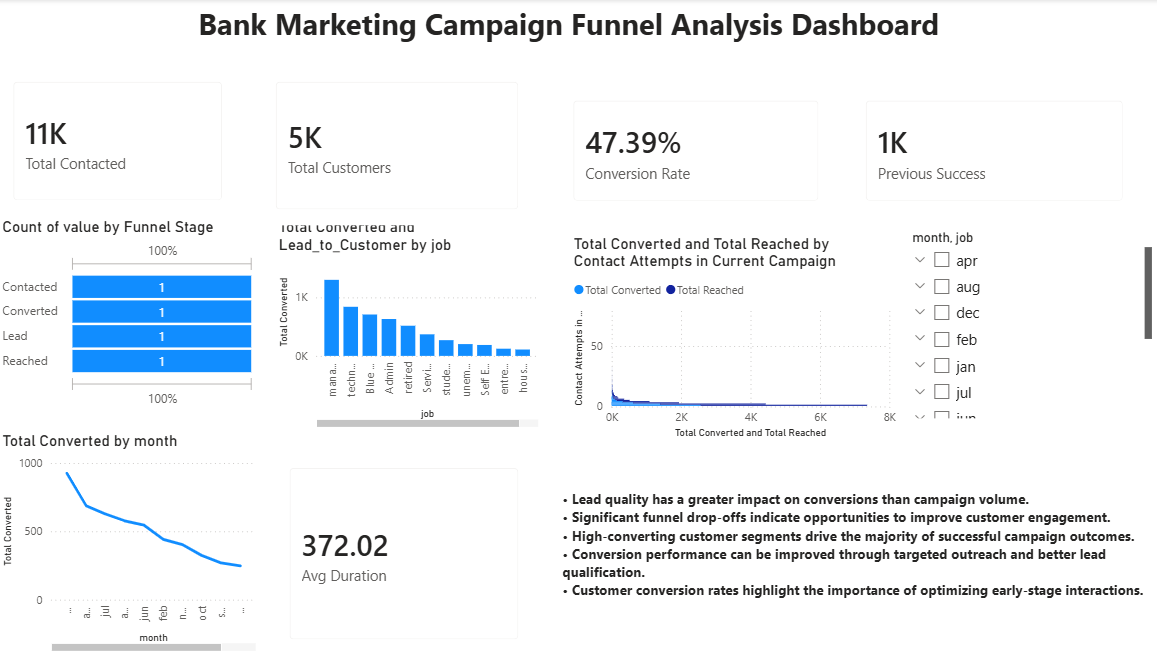

The dashboard page shown, as its layout file describes it:
{"tool":"powerbi","page":{"name":"Page 1","canvas":[1280,720],"ordinal":0},"visuals":[{"type":"funnel","fields":{"Y":["CountNonNull(FunnelTable.value)"],"Category":["FunnelTable.Funnel Stage"]},"box":[0,240.1,288.2,212.7],"z":0},{"type":"clusteredColumnChart","fields":{"Category":["bank.job"],"Y":["bank.Total Converted"]},"box":[303.3,240.1,295,234.6],"z":1000},{"type":"barChart","fields":{"Y":["bank.Total Converted","bank.Total Reached"],"Category":["bank.Contact Attempts in Current Campaign"]},"box":[627.1,258,363.6,229.2],"z":2000},{"type":"lineChart","fields":{"Category":["bank.month"],"Y":["bank.Total Converted"]},"box":[0,474.8,288.2,245.6],"z":3000},{"type":"cardVisual","fields":{"Data":["bank.Total Contacted"]},"box":[0,74.1,263.5,164.7],"z":4000},{"type":"cardVisual","fields":{"Data":["FunnelTable.Total Customers"]},"box":[288.2,74.1,300.5,174.3],"z":5000},{"type":"cardVisual","fields":{"Data":["FunnelTable.Conversion Rate"]},"box":[614.8,94.7,303.3,144.1],"z":6000},{"type":"cardVisual","fields":{"Data":["FunnelTable.Previous Success"]},"box":[935.9,94.7,317,144.1],"z":7000},{"type":"cardVisual","fields":{"Data":["FunnelTable.Avg Duration"]},"box":[303.3,498.1,285.4,222.3],"z":8000},{"type":"slicer","fields":{"Values":["bank.month","bank.job"]},"box":[990.7,248.4,281.3,216.8],"z":9000},{"type":"textbox","box":[100.2,0,1180.1,59],"z":10000},{"type":"textbox","box":[614.8,533.8,665.5,186.6],"z":11000}]}

Visuals, with their boxes in screenshot pixels (x1, y1, x2, y2), scaled from the page's 1280x720 canvas onto the 1157x651 screenshot:
funnel - CountNonNull(FunnelTable.value) x FunnelTable.Funnel Stage: 0, 217, 261, 409
clusteredColumnChart - bank.job x bank.Total Converted: 274, 217, 541, 429
barChart - bank.Total Converted x bank.Total Reached: 567, 233, 895, 441
lineChart - bank.month x bank.Total Converted: 0, 429, 261, 650
cardVisual - bank.Total Contacted: 0, 67, 238, 216
cardVisual - FunnelTable.Total Customers: 261, 67, 532, 225
cardVisual - FunnelTable.Conversion Rate: 556, 86, 830, 216
cardVisual - FunnelTable.Previous Success: 846, 86, 1133, 216
cardVisual - FunnelTable.Avg Duration: 274, 450, 532, 650
slicer - bank.month x bank.job: 895, 225, 1150, 421
textbox: 91, 0, 1156, 53
textbox: 556, 483, 1156, 650
